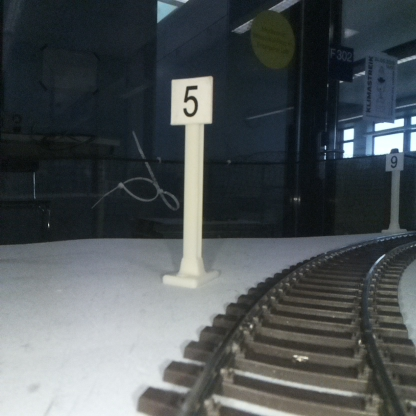white-info-5: (171, 77, 212, 283)
white-info-9: (385, 152, 403, 232)
